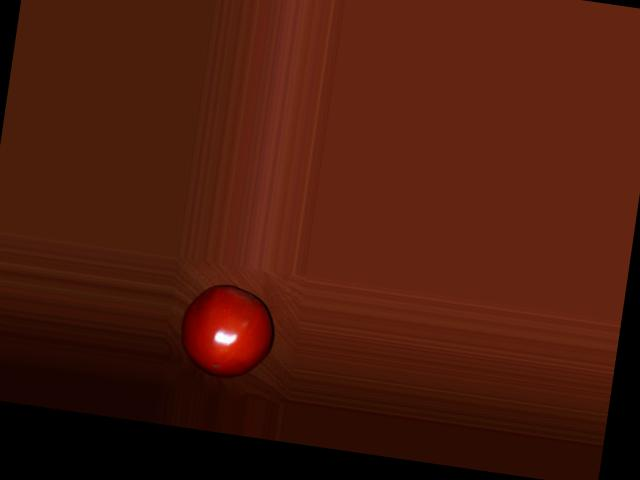tomato: (173, 279, 279, 384)
